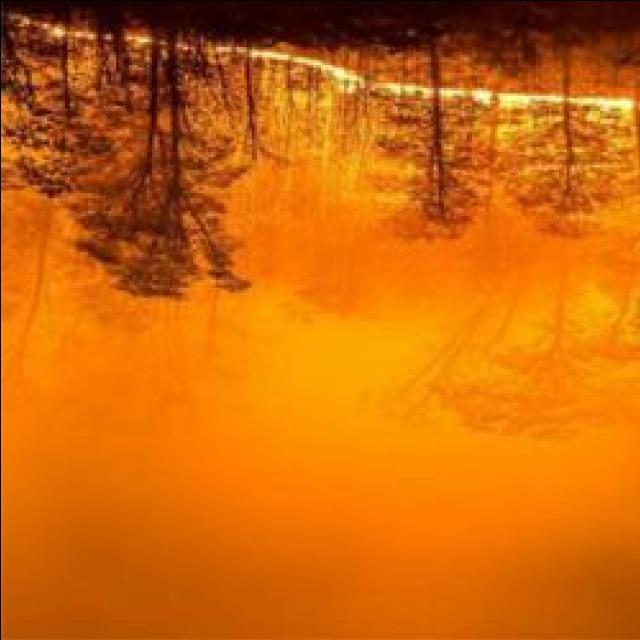fire: (484, 85, 634, 122), (245, 46, 378, 87), (367, 74, 492, 108)
